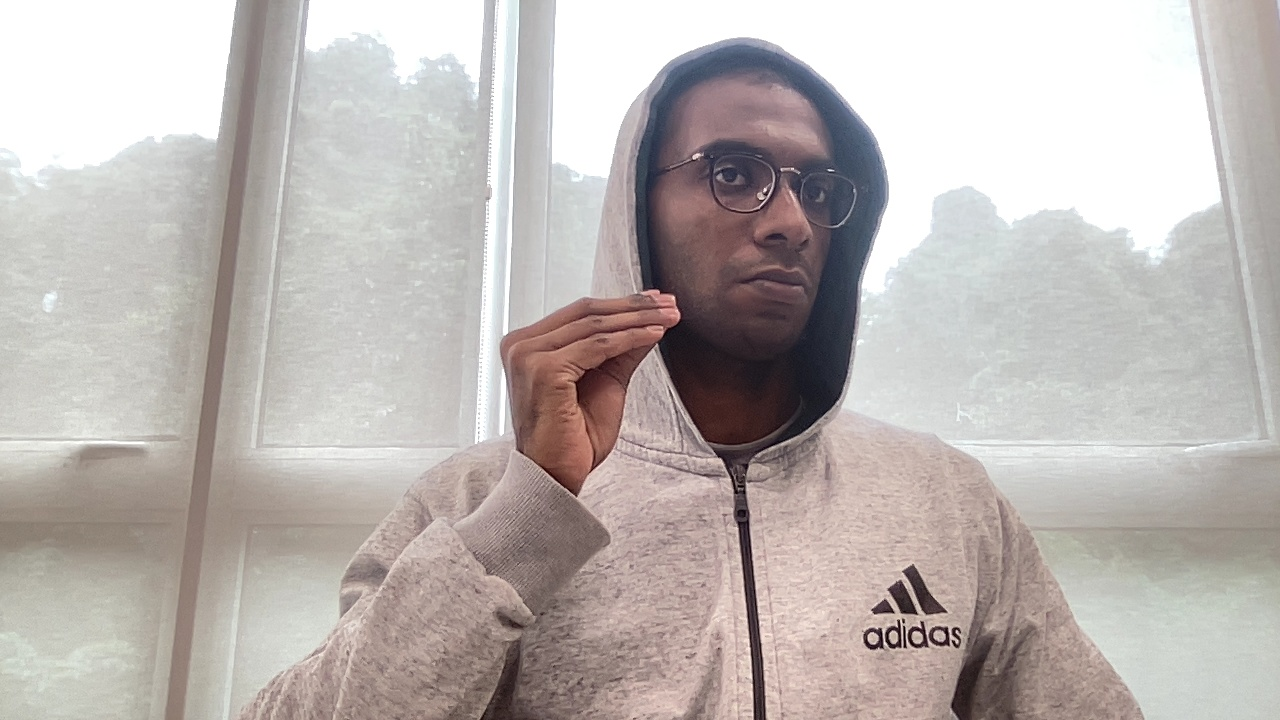eat: (494, 286, 688, 458)
